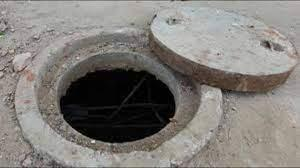open manhole-not overflowing-: (15, 8, 299, 155)
